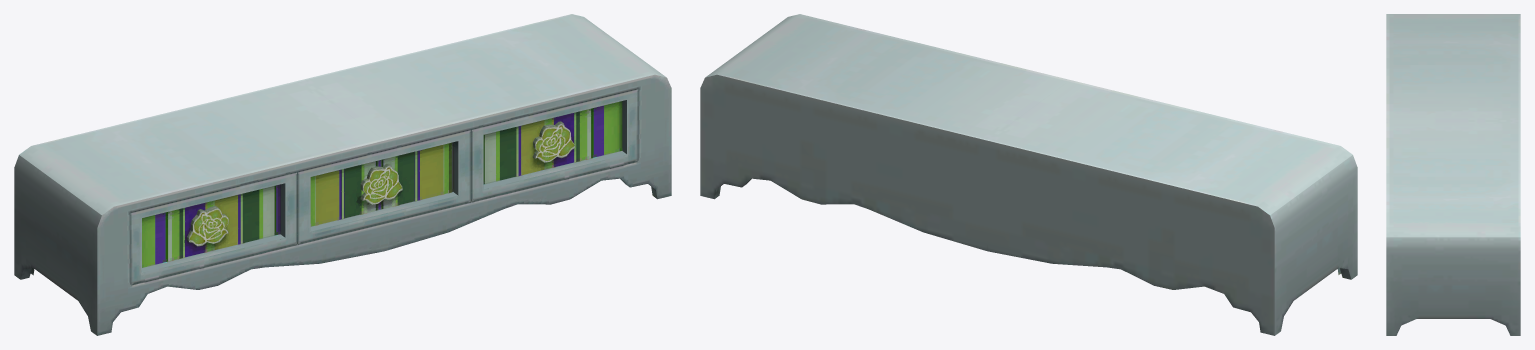
File: furni_0200607_01.FBX
3 views of the same model, side by side, from view 1: azimuth 30°, elevation 25°; view 2: azimuth 150°, elevation 25°; view 3: azimuth 270°, elevation 25° (orthographic). The views are drawn at different scales.
Visible parts, largest first — view 1: furni_0200607_01; view 2: furni_0200607_01; view 3: furni_0200607_01.
Boxes of the visible parts, <box> form: furni_0200607_01: <box>14,14,671,335</box>; furni_0200607_01: <box>700,14,1357,335</box>; furni_0200607_01: <box>1386,14,1520,335</box>.
Size of the model in its own units: 240 by 50 by 60.
Materials: 1 (1 with a texture image).
